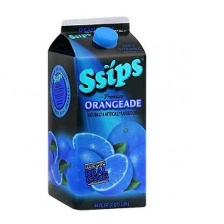carton: (45, 17, 149, 214)
